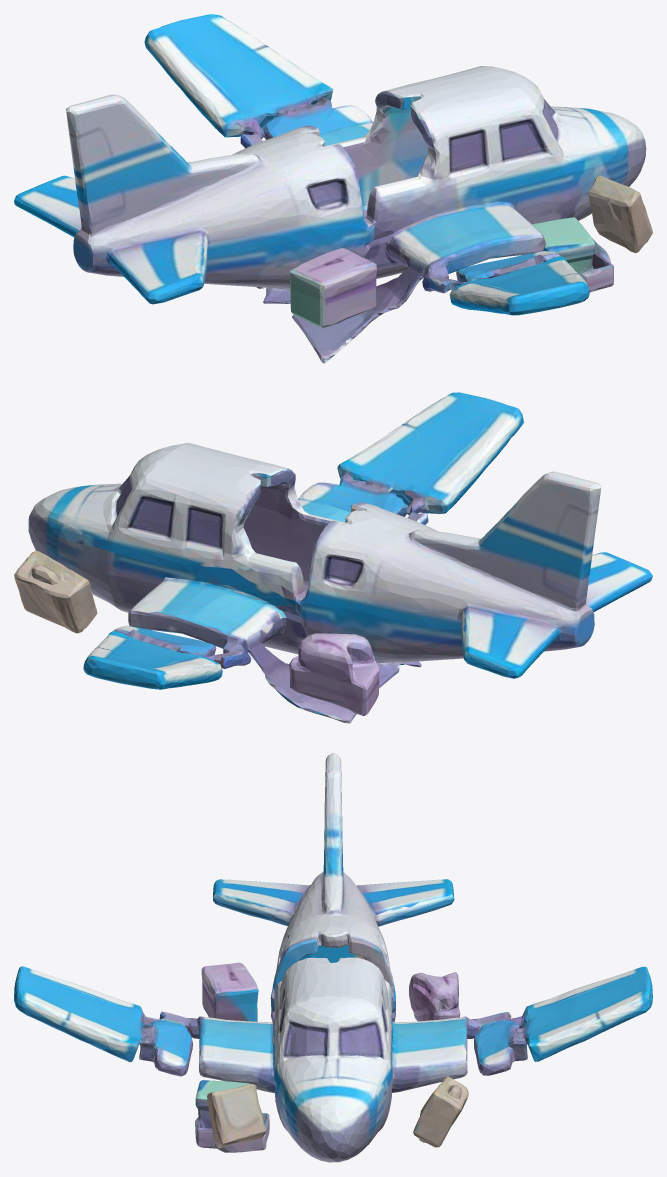
The model's file is crashed_plane.glb.
3 renders of one model, top to bottom at view 1: azimuth 30°, elevation 25°; view 2: azimuth 150°, elevation 25°; view 3: azimuth 270°, elevation 25°, orthographic. The views are drawn at different scales.
Parts seen in each view (by area): view 1: tmplrkvzp6t.ply; view 2: tmplrkvzp6t.ply; view 3: tmplrkvzp6t.ply.
Boxes of the visible parts, x1,y1,x2,y2 form: tmplrkvzp6t.ply: (14, 14, 652, 363); tmplrkvzp6t.ply: (14, 392, 652, 723); tmplrkvzp6t.ply: (14, 752, 652, 1162).
Bounding box in the file's own units: 1.77 × 0.7015 × 1.99.
Materials: 1 (1 with a texture image).
